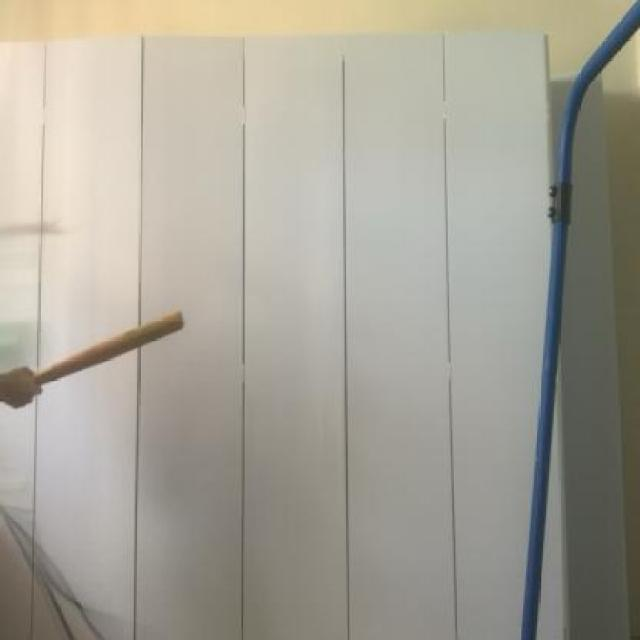baseball: (0, 307, 38, 375)
